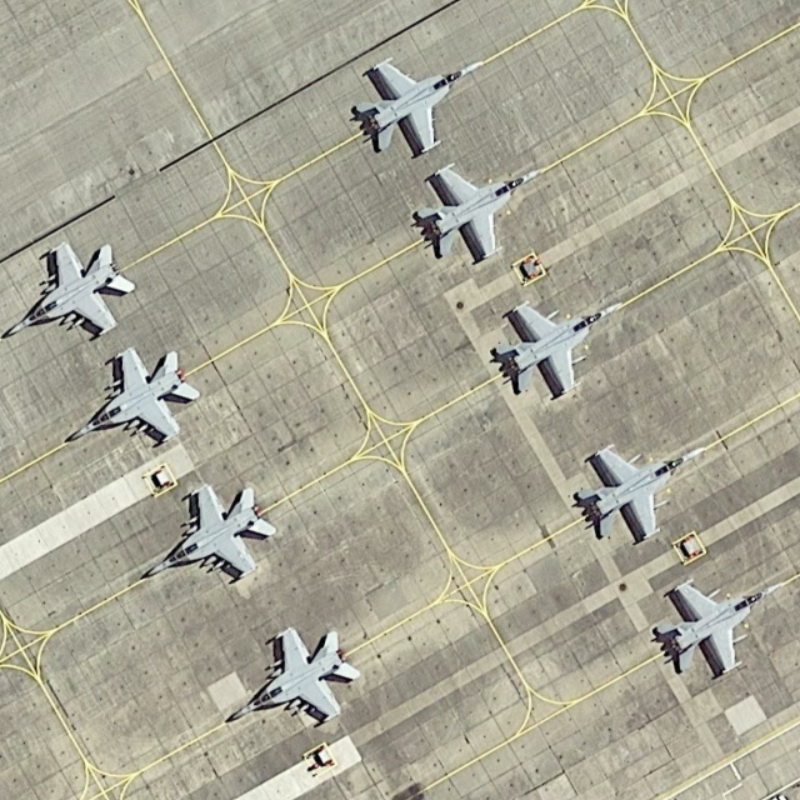A16: (223, 616, 368, 738), (130, 477, 282, 592), (405, 155, 552, 271), (58, 342, 204, 455), (648, 568, 786, 687), (344, 44, 489, 156), (485, 291, 628, 403), (1, 237, 142, 350), (569, 438, 710, 548)
